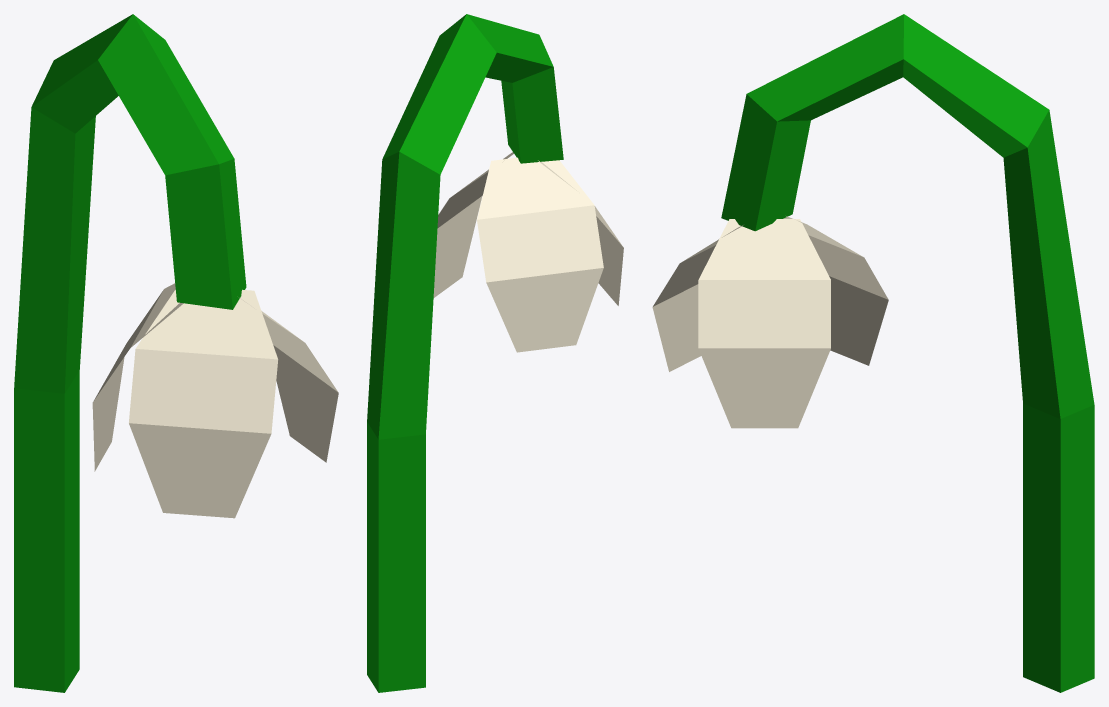
The model's file is snowdrop.obj.
3 renders of one model, left to right at view 1: azimuth 30°, elevation 25°; view 2: azimuth 150°, elevation 25°; view 3: azimuth 270°, elevation 25°, orthographic. The views are drawn at different scales.
Visible parts, largest first — view 1: Cube.001_Cube.018; view 2: Cube.001_Cube.018; view 3: Cube.001_Cube.018.
Part boxes in pixels (x1,y1,x2,y2): Cube.001_Cube.018: (14, 14, 338, 692); Cube.001_Cube.018: (367, 14, 623, 692); Cube.001_Cube.018: (652, 14, 1094, 692).
Size of the model in its own units: 0.0315 by 0.109 by 0.0657.
